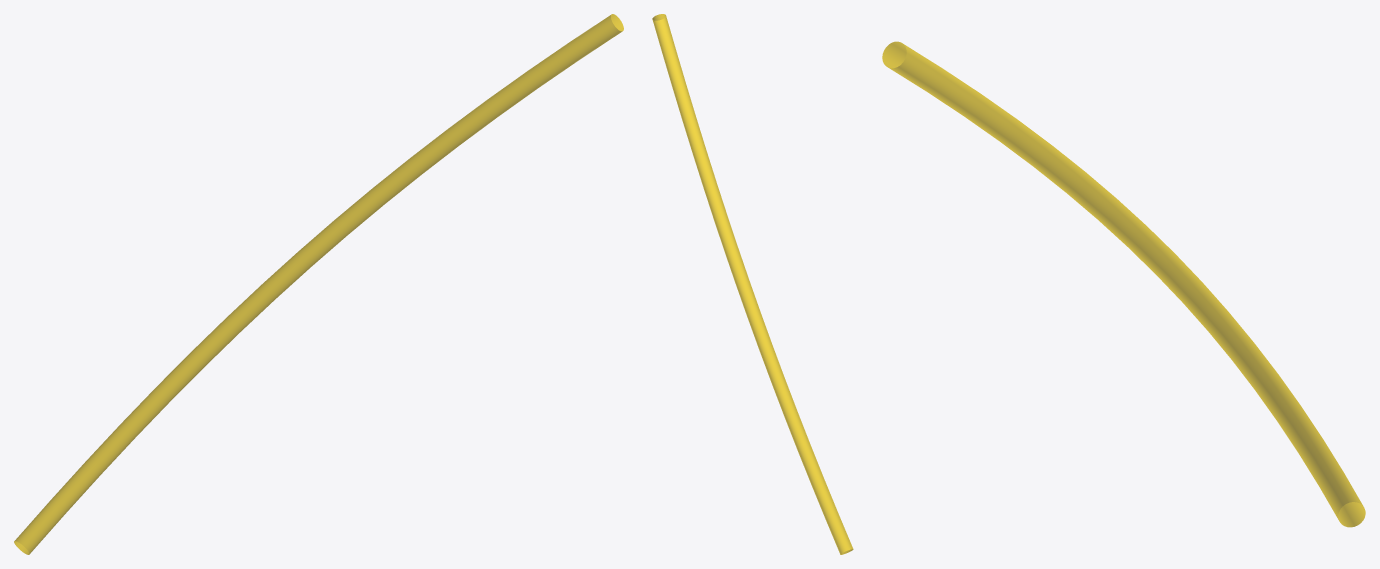
The model's file is Event_31209032_track_14.fbx.
3 renders of one model, left to right at view 1: azimuth 30°, elevation 25°; view 2: azimuth 150°, elevation 25°; view 3: azimuth 270°, elevation 25°, orthographic. The views are drawn at different scales.
Parts seen in each view (by area): view 1: Model; view 2: Model; view 3: Model.
Boxes of the visible parts, left/top/right/bottom form: Model: left=14, top=14, right=623, bottom=554; Model: left=652, top=14, right=853, bottom=554; Model: left=882, top=41, right=1365, bottom=527.
Bounding box in the file's own units: 1.01 × 1.2 × 0.6796.
